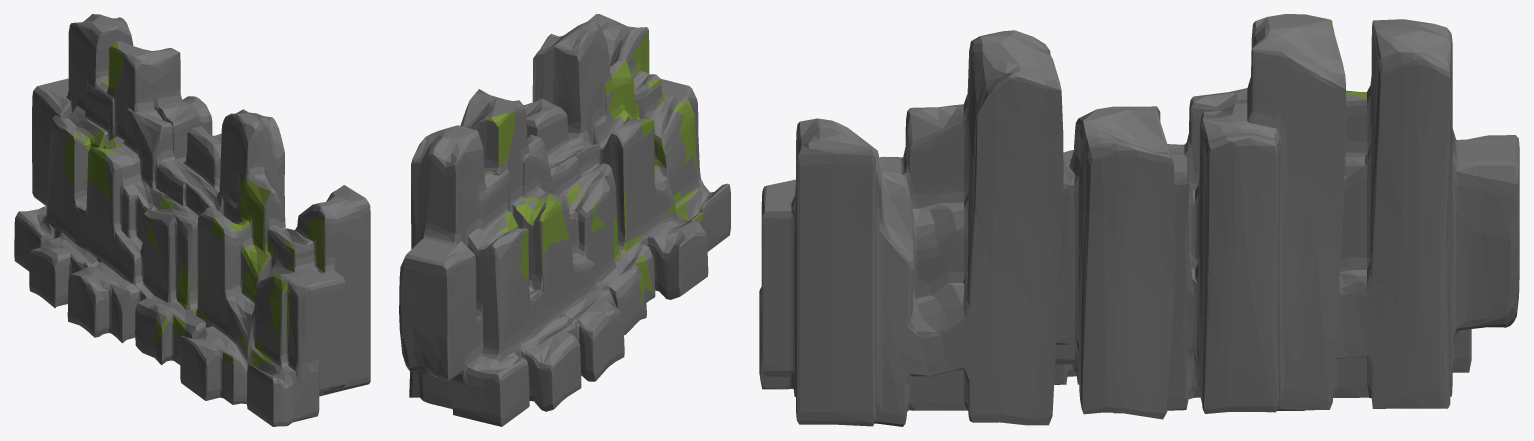
The model's file is felswand.fbx.
3 views of the same model, side by side, from view 1: azimuth 30°, elevation 25°; view 2: azimuth 150°, elevation 25°; view 3: azimuth 270°, elevation 25° (orthographic). The views are drawn at different scales.
Parts seen in each view (by area): view 1: Cube.017; view 2: Cube.017; view 3: Cube.017.
Boxes of the visible parts, left/top/right/bottom form: Cube.017: left=14, top=14, right=370, bottom=426; Cube.017: left=399, top=14, right=730, bottom=426; Cube.017: left=759, top=14, right=1519, bottom=426.
Size of the model in its own units: 646 by 1011 by 1875.
